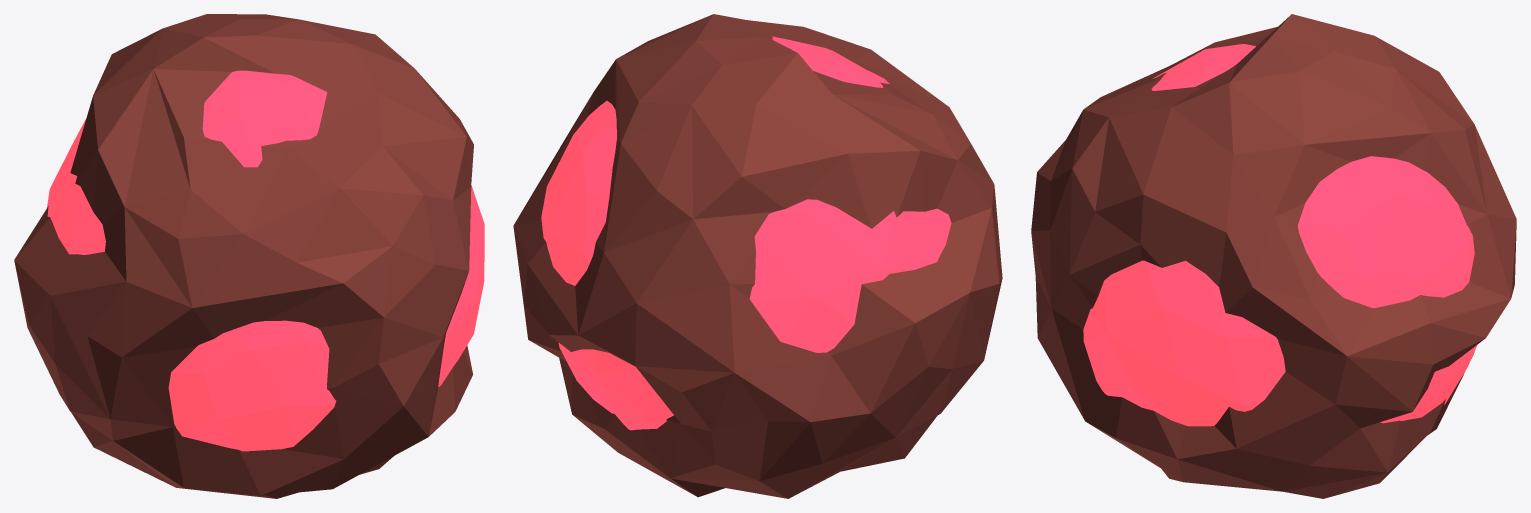
The model's file is lava_planet2.fbx.
The picture shows the model from 3 angles, left to right: view 1: azimuth 30°, elevation 25°; view 2: azimuth 150°, elevation 25°; view 3: azimuth 270°, elevation 25°; orthographic projection.
Parts seen in each view (by area): view 1: lava_planet2; view 2: lava_planet2; view 3: lava_planet2.
Boxes of the visible parts, left/top/right/bottom form: lava_planet2: left=14, top=14, right=484, bottom=498; lava_planet2: left=513, top=14, right=1002, bottom=498; lava_planet2: left=1031, top=14, right=1516, bottom=498.
Bounding box in the file's own units: 198 × 190 × 198.
